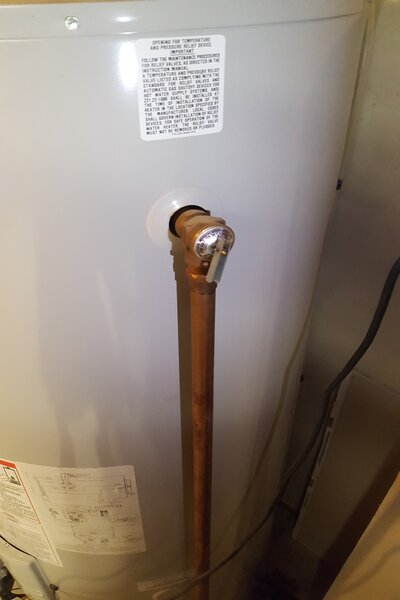valve: (169, 204, 236, 296)
